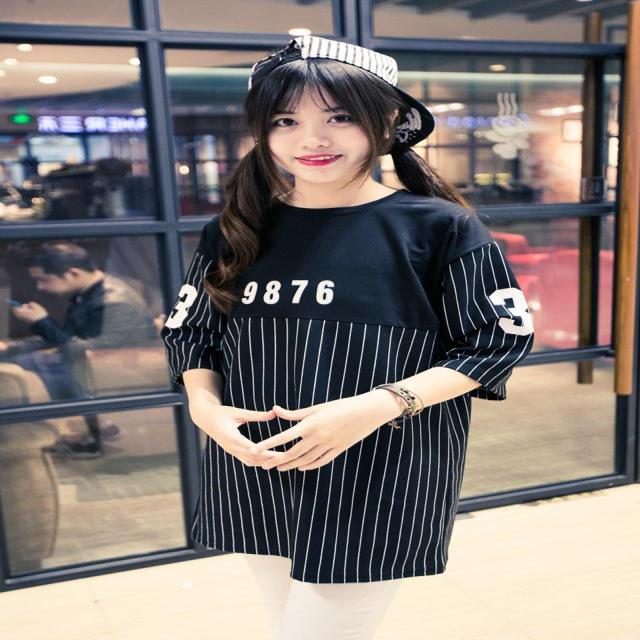long sleeve dress: (164, 192, 536, 578)
trousers: (218, 404, 444, 639)
